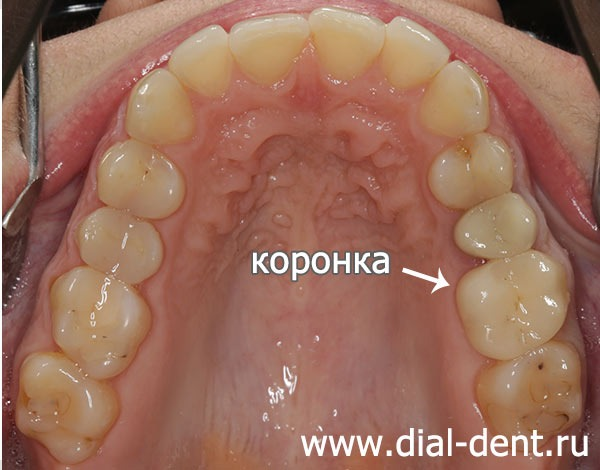UL1BC_decay: (430, 134, 512, 206)
UL1M_healthy: (458, 251, 564, 359)
UL2BC_healthy: (455, 193, 534, 256)
UL2M_decay: (479, 346, 581, 428)
ULCI_healthy: (309, 8, 385, 76)
ULC_healthy: (423, 60, 487, 135)
ULLI_healthy: (384, 16, 449, 87)
UR1BC_healthy: (97, 142, 184, 218)
UR1M_decay: (53, 266, 149, 378)
UR2BC_healthy: (80, 208, 162, 282)
UR2M_decay: (16, 353, 115, 461)
URCI_healthy: (232, 16, 308, 78)
URC_healthy: (127, 69, 191, 140)
URLI_healthy: (173, 25, 231, 97)
